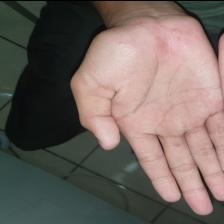DA: (116, 18, 202, 56)
